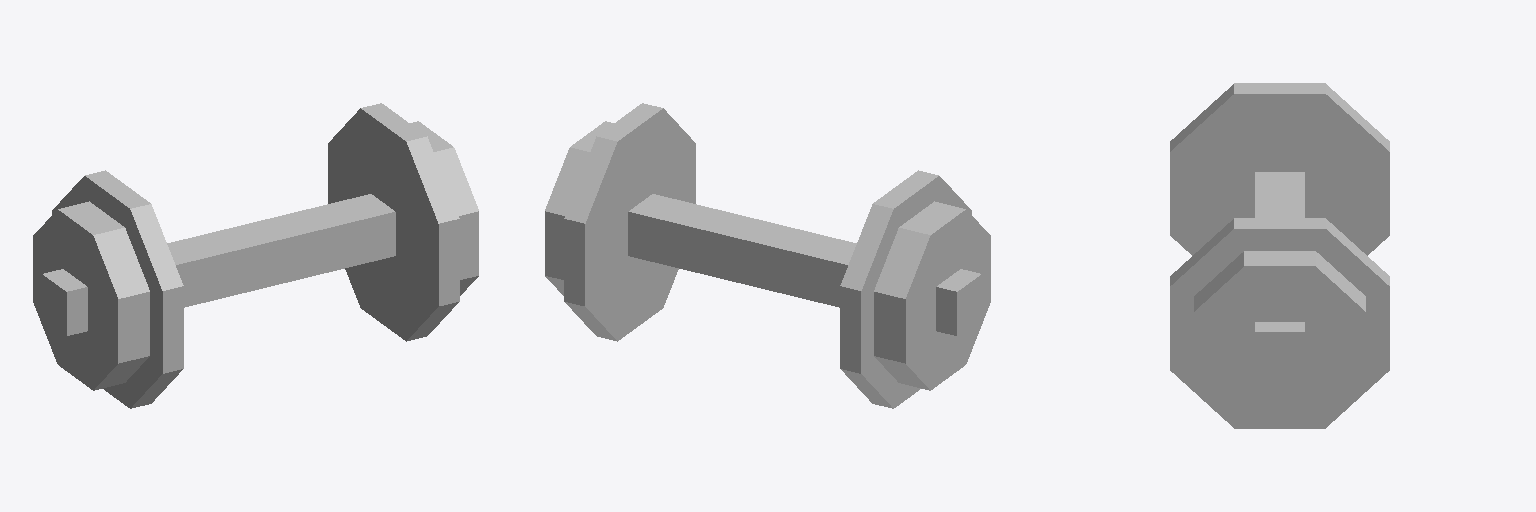
File: large_wheels.obj
The picture shows the model from 3 angles: view 1: azimuth 30°, elevation 25°; view 2: azimuth 150°, elevation 25°; view 3: azimuth 270°, elevation 25°; orthographic projection.
Visible parts, largest first — view 1: 5c6e7872-1f7a-4ba6-ae25-6df4cb640f81, d0ab77cd-0b8b-43f0-9c3c-e5ce2b7111d4, 8f2e4f31-9b13-4c9a-8e9e-7b3d52d54fb2; view 2: 5c6e7872-1f7a-4ba6-ae25-6df4cb640f81, d0ab77cd-0b8b-43f0-9c3c-e5ce2b7111d4, 8f2e4f31-9b13-4c9a-8e9e-7b3d52d54fb2; view 3: d0ab77cd-0b8b-43f0-9c3c-e5ce2b7111d4, 5c6e7872-1f7a-4ba6-ae25-6df4cb640f81, 8f2e4f31-9b13-4c9a-8e9e-7b3d52d54fb2.
Boxes of the visible parts, x1,y1,x2,y2 form: 5c6e7872-1f7a-4ba6-ae25-6df4cb640f81: [33, 170, 183, 408]; d0ab77cd-0b8b-43f0-9c3c-e5ce2b7111d4: [328, 103, 478, 341]; 8f2e4f31-9b13-4c9a-8e9e-7b3d52d54fb2: [42, 194, 395, 335]; 5c6e7872-1f7a-4ba6-ae25-6df4cb640f81: [840, 170, 990, 408]; d0ab77cd-0b8b-43f0-9c3c-e5ce2b7111d4: [545, 103, 695, 341]; 8f2e4f31-9b13-4c9a-8e9e-7b3d52d54fb2: [628, 194, 981, 335]; d0ab77cd-0b8b-43f0-9c3c-e5ce2b7111d4: [1170, 218, 1389, 428]; 5c6e7872-1f7a-4ba6-ae25-6df4cb640f81: [1170, 83, 1389, 255]; 8f2e4f31-9b13-4c9a-8e9e-7b3d52d54fb2: [1255, 172, 1304, 376].
Bounding box in the file's own units: 2.38 × 1.12 × 1.12.